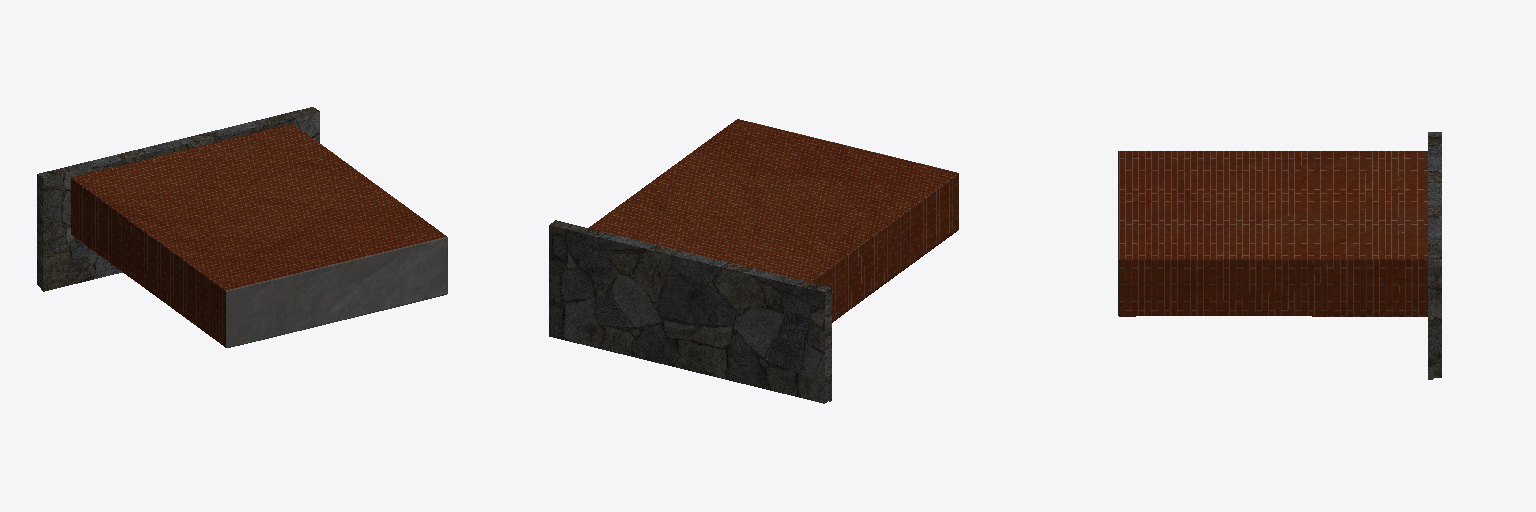
3 renders of one model, left to right at view 1: azimuth 30°, elevation 25°; view 2: azimuth 150°, elevation 25°; view 3: azimuth 270°, elevation 25°, orthographic.
Visible parts, largest first — view 1: 13111_fireplace_bricks, 13111_fireplace_bricks_floor; view 2: 13111_fireplace_bricks, 13111_fireplace_bricks_floor; view 3: 13111_fireplace_bricks, 13111_fireplace_bricks_floor.
Boxes of the visible parts, box(x1,y1,x2,y2) form: 13111_fireplace_bricks: box(71, 124, 447, 347); 13111_fireplace_bricks_floor: box(37, 107, 319, 291); 13111_fireplace_bricks: box(589, 119, 958, 322); 13111_fireplace_bricks_floor: box(549, 220, 831, 403); 13111_fireplace_bricks: box(1118, 151, 1427, 316); 13111_fireplace_bricks_floor: box(1428, 132, 1441, 379).
Size of the model in its own units: 98.04 by 38.19 by 99.38.
4 materials, 4 textured.